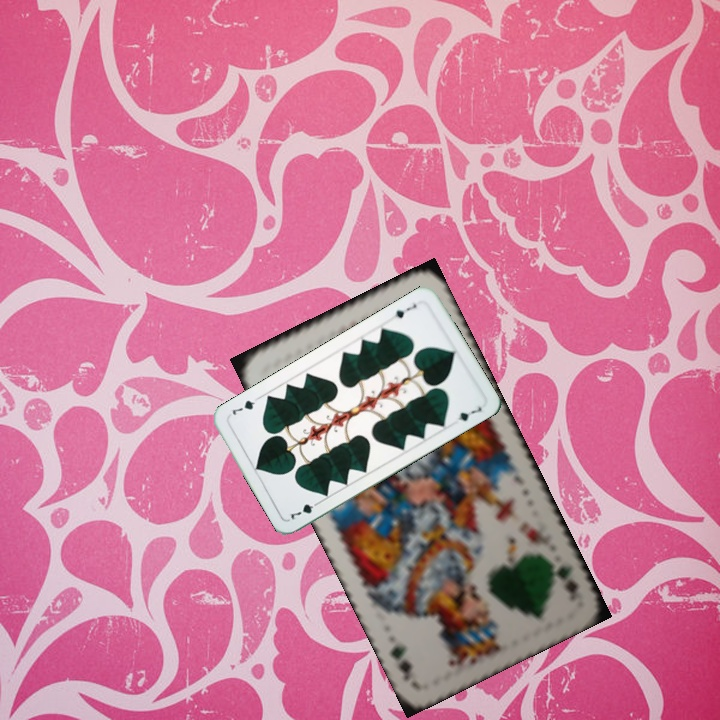G7: (284, 497, 323, 522), (386, 300, 419, 321)
GK: (544, 553, 586, 604)
